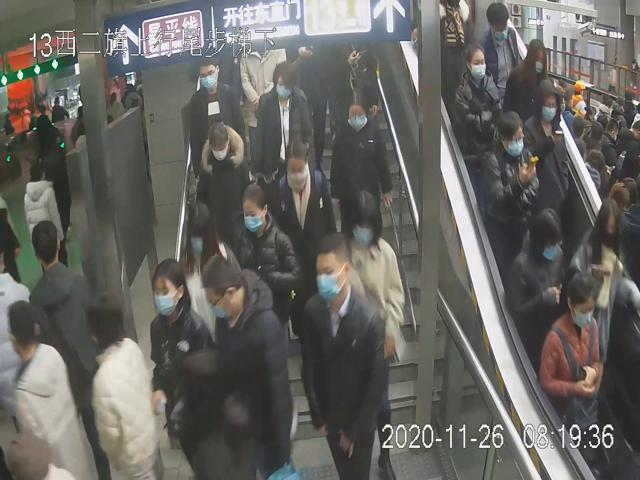person: (203, 250, 295, 479), (302, 229, 380, 480), (345, 184, 411, 480), (267, 138, 340, 299), (537, 267, 602, 435), (230, 181, 300, 336), (150, 257, 210, 436), (329, 84, 395, 215), (173, 199, 233, 343), (505, 208, 569, 341), (479, 108, 539, 248), (253, 61, 314, 190), (452, 38, 503, 171), (185, 53, 246, 160), (195, 123, 249, 238)
